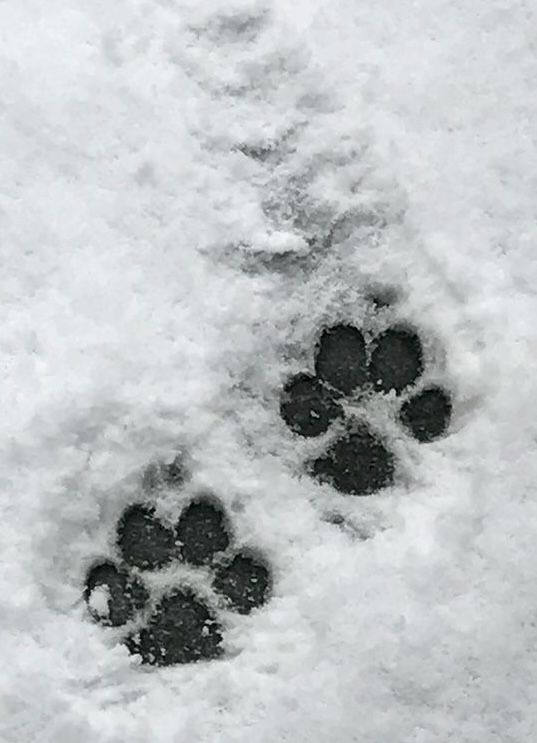cat: (269, 306, 460, 507), (72, 491, 277, 673)
